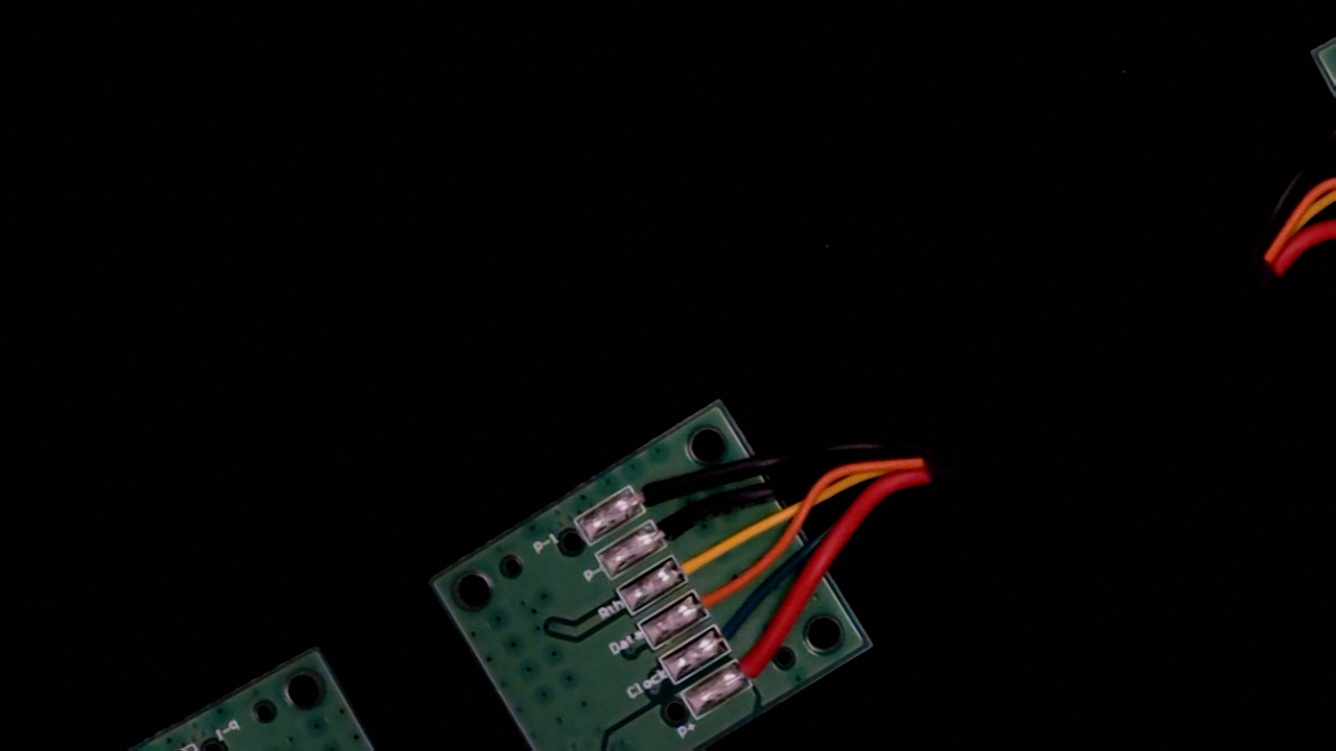Black: (638, 489, 722, 559)
Black1: (616, 457, 693, 522)
Green: (697, 601, 769, 662)
Orange: (678, 562, 759, 629)
Red: (716, 633, 794, 698)
Yellow: (657, 523, 741, 593)
